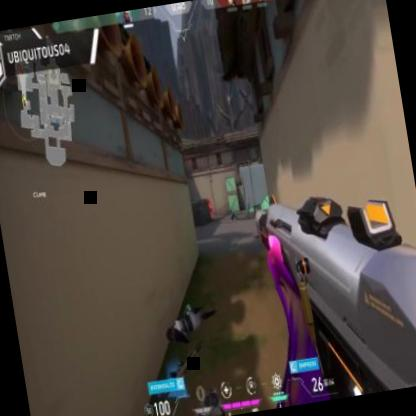enemy: (206, 196, 214, 220)
enemy_head: (206, 197, 210, 201)
